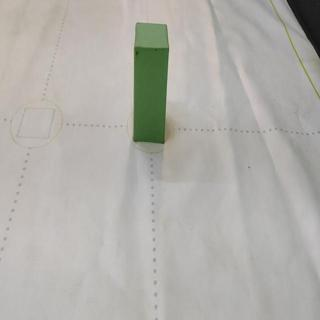greenbox: (132, 20, 170, 145)
